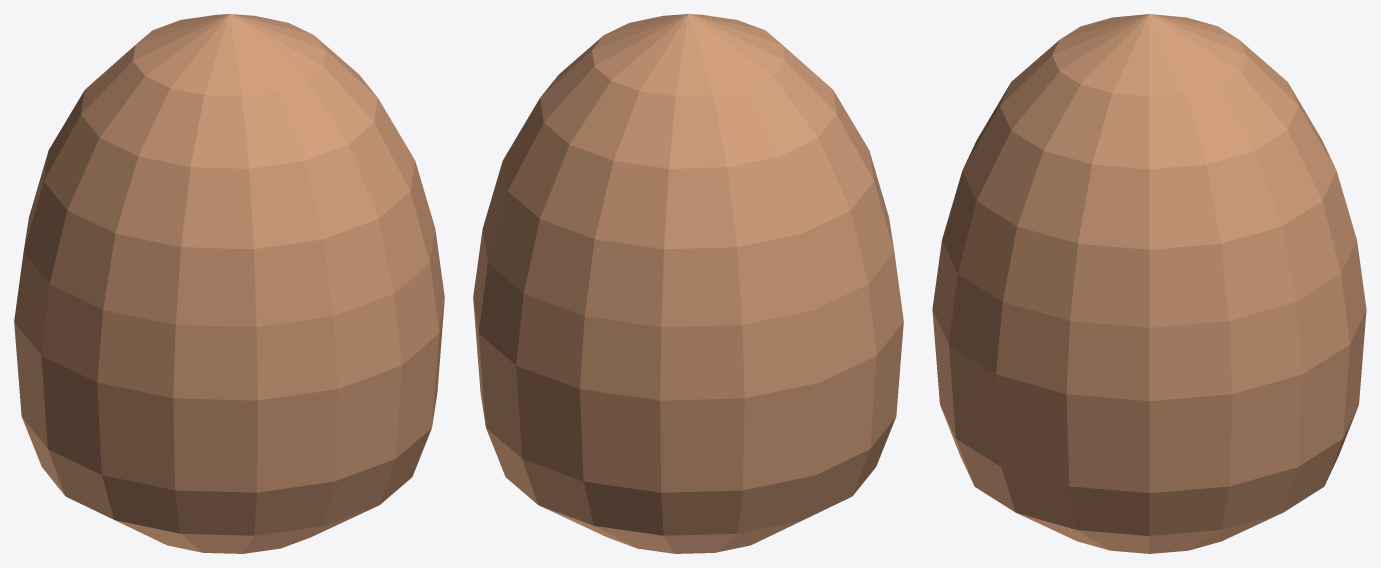
The model's file is egg1.fbx.
3 views of the same model, side by side, from view 1: azimuth 30°, elevation 25°; view 2: azimuth 150°, elevation 25°; view 3: azimuth 270°, elevation 25° (orthographic).
Visible parts, largest first — view 1: Sphere; view 2: Sphere; view 3: Sphere.
Boxes of the visible parts, x1=… form: Sphere: x1=14, y1=14, x2=444, y2=553; Sphere: x1=473, y1=14, x2=903, y2=553; Sphere: x1=932, y1=14, x2=1366, y2=553.
Size of the model in its own units: 162 by 211 by 162.
